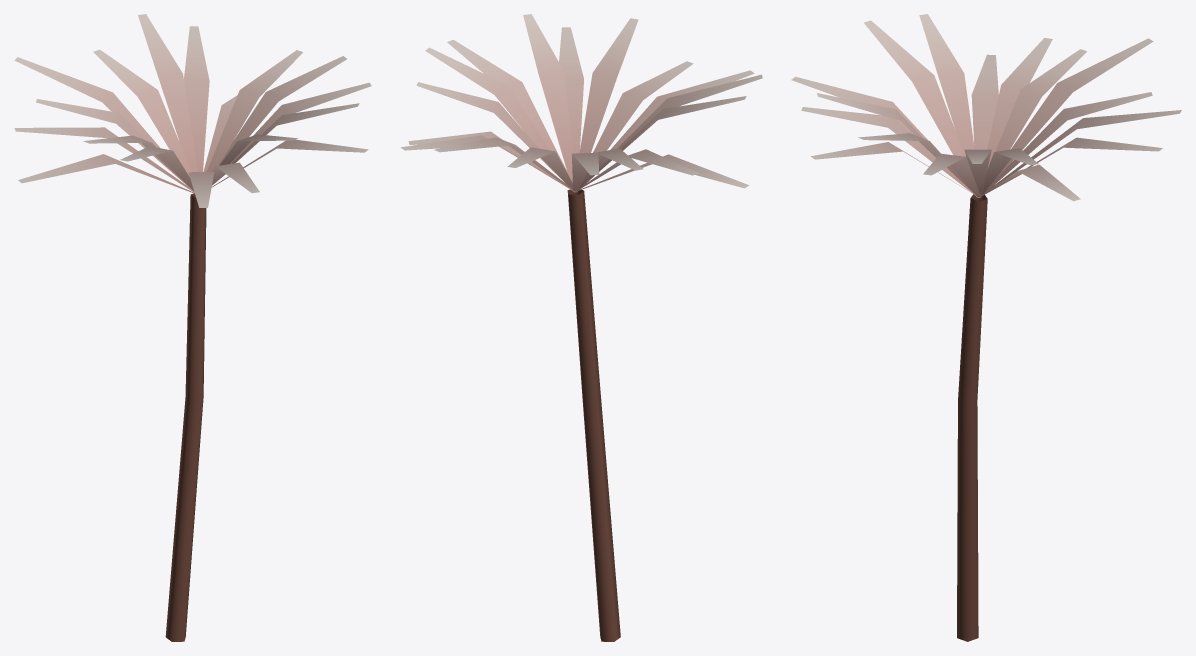
Rendered from Mtn_ChingurumaSeed.fbx.
The picture shows the model from 3 angles, left to right: view 1: azimuth 30°, elevation 25°; view 2: azimuth 150°, elevation 25°; view 3: azimuth 270°, elevation 25°; orthographic projection. The views are drawn at different scales.
Visible parts, largest first — view 1: Mtn_ChingurumaSeed; view 2: Mtn_ChingurumaSeed; view 3: Mtn_ChingurumaSeed.
Boxes of the visible parts, x1,y1,x2,y2 form: Mtn_ChingurumaSeed: (14,14,371,641); Mtn_ChingurumaSeed: (400,14,762,641); Mtn_ChingurumaSeed: (791,14,1181,641).
Bounding box in the file's own units: 1.71 × 2.75 × 1.72.
